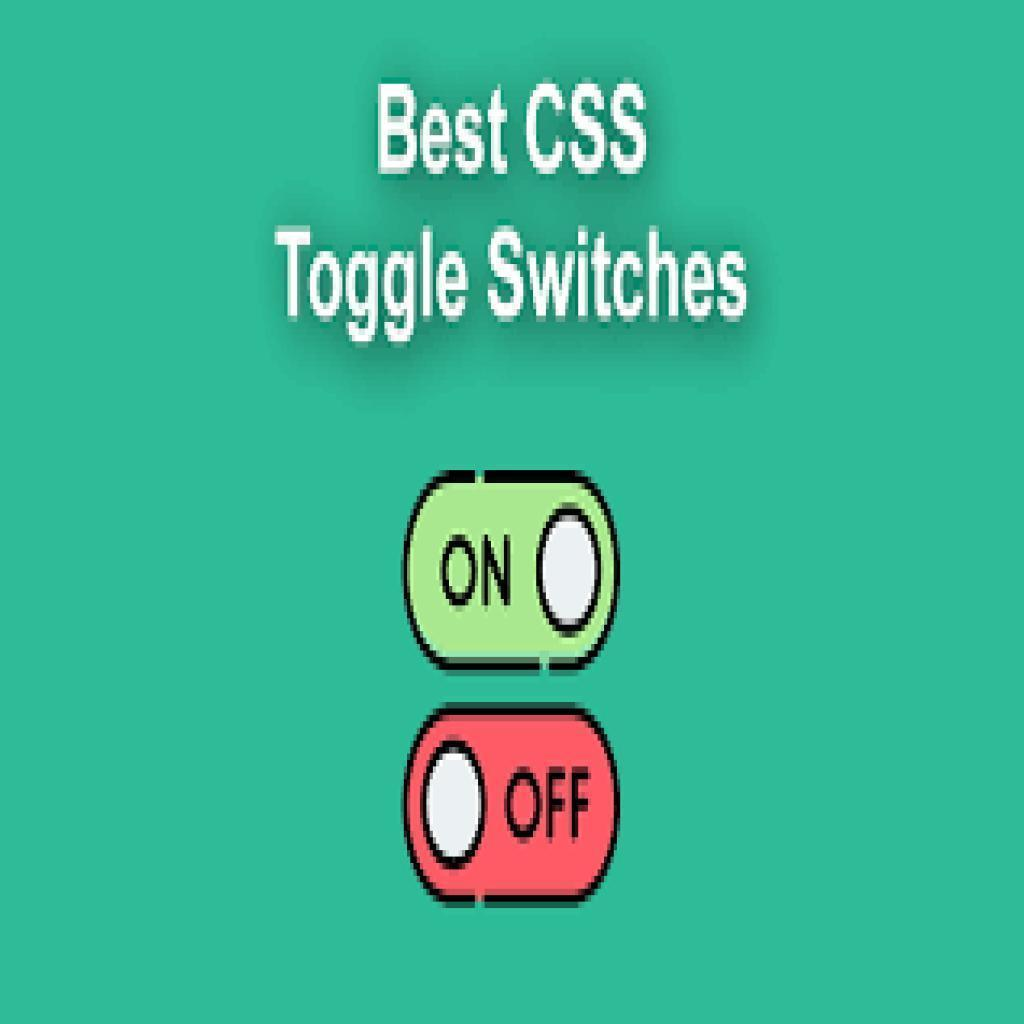switch: (400, 702, 623, 910), (405, 473, 625, 673)
